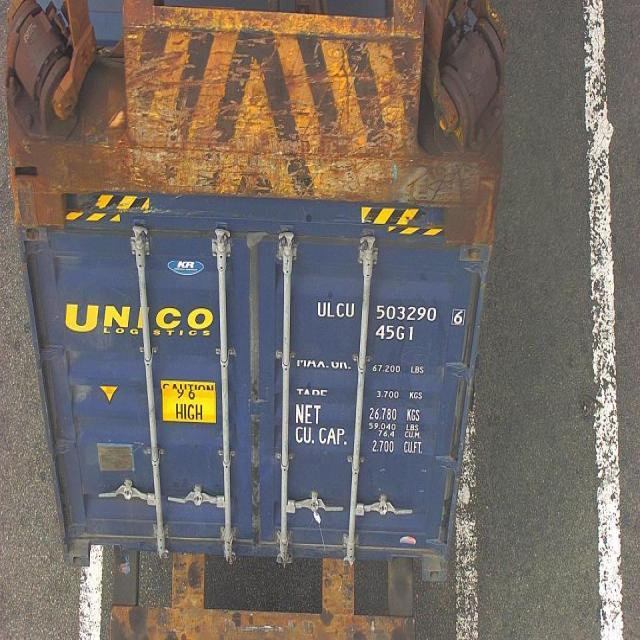ISO: (375, 323, 416, 342)
container_number: (314, 298, 468, 330)
